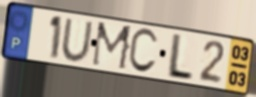1: (48, 15, 65, 61)
2: (198, 39, 226, 85)
C: (126, 27, 160, 76)
L: (164, 32, 196, 83)
M: (90, 20, 135, 73)
U: (60, 17, 95, 65)
